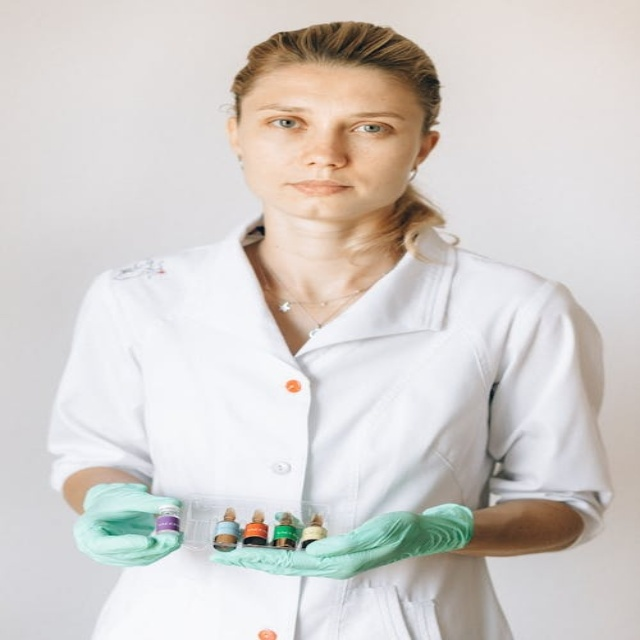Guantes: (213, 503, 474, 581), (73, 482, 183, 567)
Sin_gafas: (246, 100, 415, 146)
Sin_mascara: (273, 172, 360, 217)
